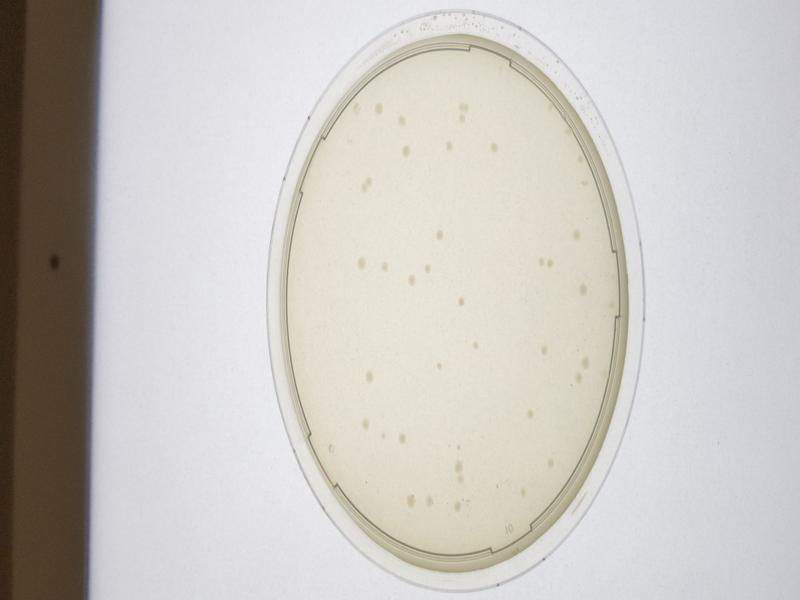colony: (573, 280, 594, 300), (349, 253, 368, 273), (375, 257, 395, 275), (536, 343, 554, 363), (569, 371, 589, 389), (361, 367, 379, 386), (453, 293, 473, 310), (521, 406, 541, 423), (467, 339, 486, 356), (355, 413, 370, 434), (403, 491, 417, 513), (577, 353, 593, 372), (393, 430, 413, 445), (545, 253, 559, 273), (449, 495, 463, 515), (543, 455, 559, 472), (402, 273, 418, 289), (419, 490, 435, 506), (433, 358, 448, 375), (485, 141, 503, 155), (443, 136, 454, 157), (398, 142, 412, 157), (372, 99, 384, 116), (535, 253, 546, 271), (393, 113, 407, 127), (420, 261, 433, 276), (431, 229, 447, 241), (570, 227, 582, 243), (516, 486, 530, 499)
